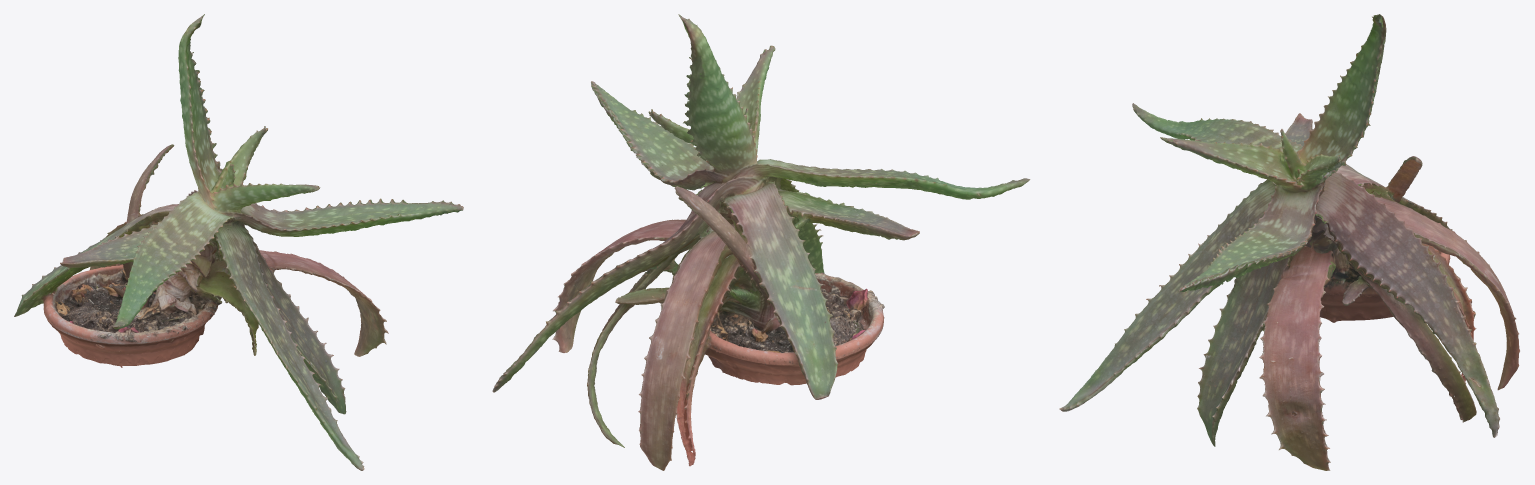
The model's file is aloe_vera.glb.
3 renders of one model, left to right at view 1: azimuth 30°, elevation 25°; view 2: azimuth 150°, elevation 25°; view 3: azimuth 270°, elevation 25°, orthographic. The views are drawn at different scales.
Visible parts, largest first — view 1: Model; view 2: Model; view 3: Model.
Boxes of the visible parts, x1=… form: Model: x1=14, y1=14, x2=463, y2=470; Model: x1=492, y1=14, x2=1030, y2=470; Model: x1=1059, y1=14, x2=1519, y2=470.
Size of the model in its own units: 3.77 by 3.55 by 3.67.
Materials: 3 (3 with a texture image).
